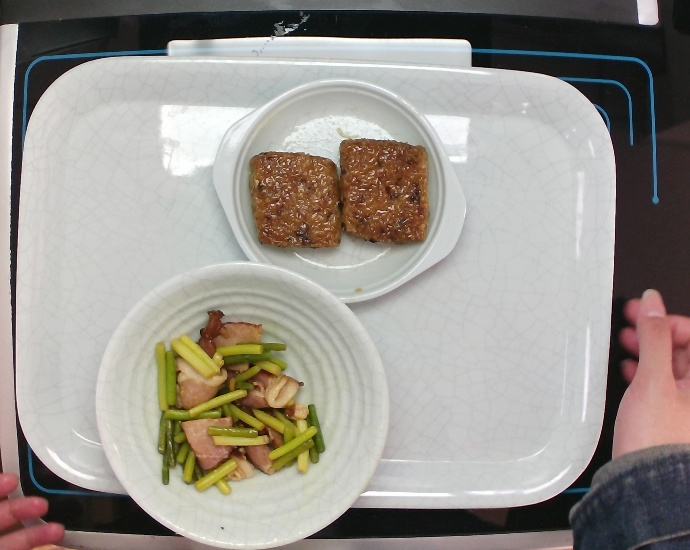JYsf-Shuang_Er_Pan: (210, 76, 468, 305)
JYsf-Xiao_Tang_Wan: (92, 259, 393, 550)
